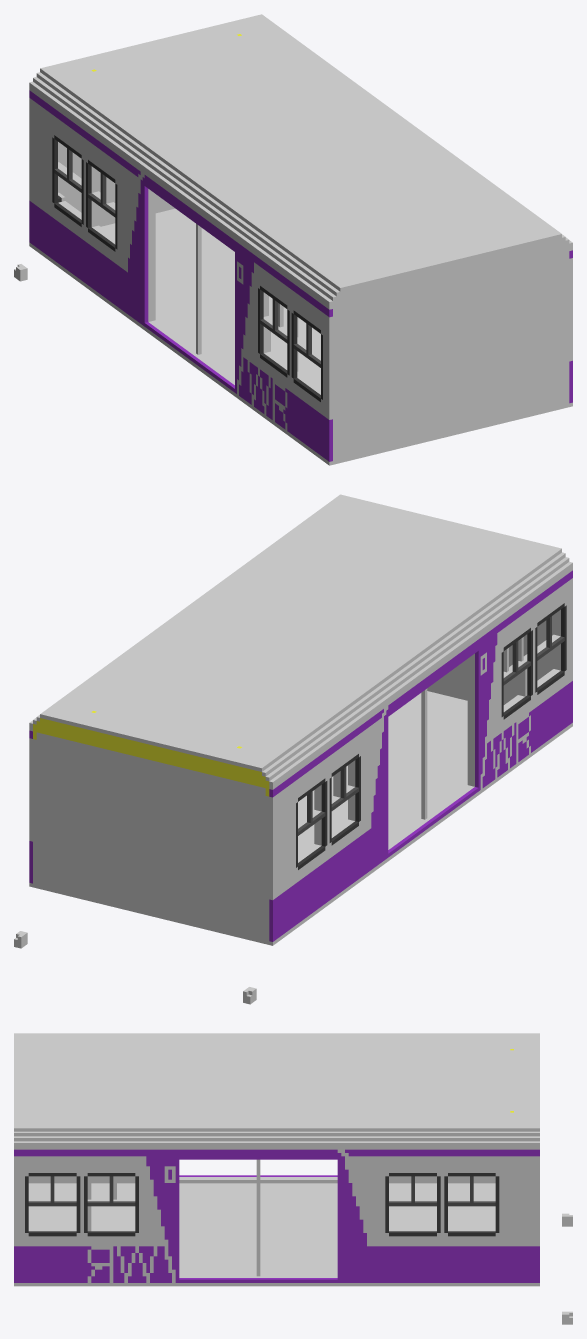
Rendered from train_2nd_dabba-0.obj.
The picture shows the model from 3 angles, top to bottom: view 1: azimuth 30°, elevation 25°; view 2: azimuth 150°, elevation 25°; view 3: azimuth 270°, elevation 25°; orthographic projection. The views are drawn at different scales.
Bounding box in the file's own units: 6.7 × 5.8 × 15.2.
1 material, 1 textured.
